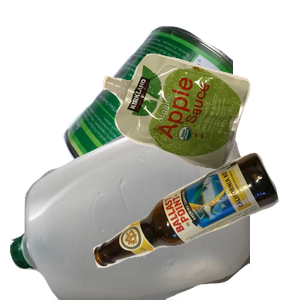glass: (91, 150, 300, 300)
metal: (60, 23, 300, 203)
plastic: (10, 120, 250, 300)
trash: (100, 51, 300, 214)
